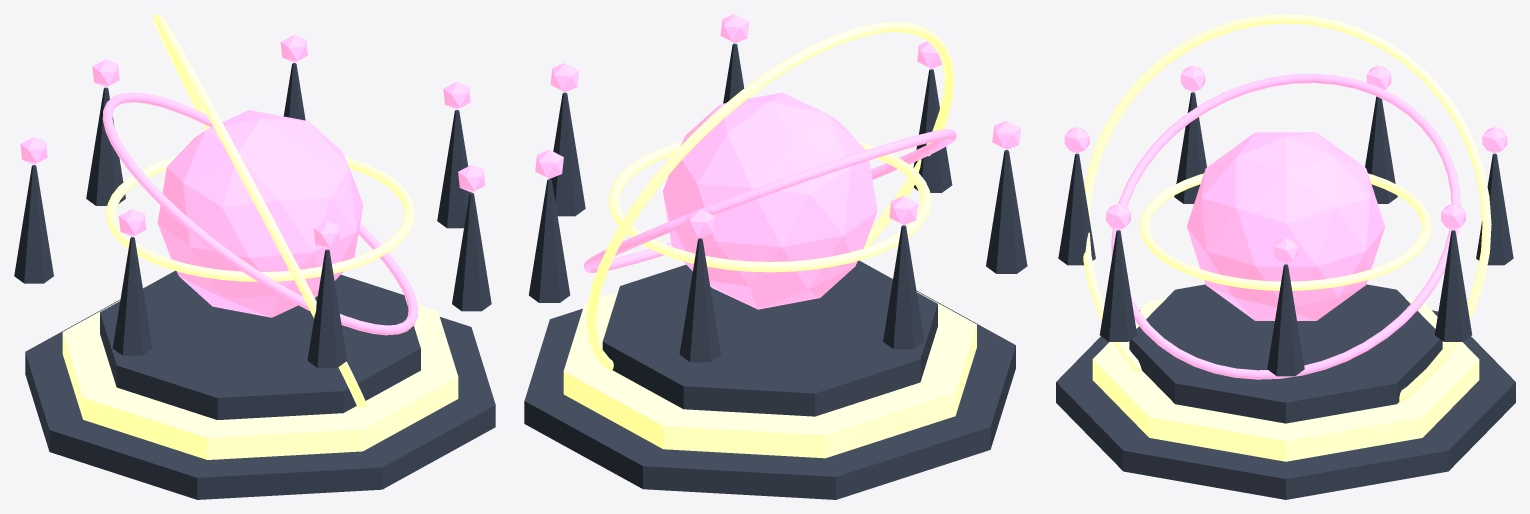
File: gpu-blender-v23.glb
3 renders of one model, left to right at view 1: azimuth 30°, elevation 25°; view 2: azimuth 150°, elevation 25°; view 3: azimuth 270°, elevation 25°, orthographic. The views are drawn at different scales.
Visible parts, largest first — view 1: Cylinder.002, SovereignCore_vision-gesture-control, Cylinder, Cylinder.001, Torus.001, Torus, Torus.002, Cone.006, Cone.003, Cone.004, Cone.005, Cone (+9 smaller); view 2: Cylinder.002, SovereignCore_vision-gesture-control, Cylinder, Cylinder.001, Torus.002, Torus.001, Torus, Cone.003, Cone.002, Cone.004, Cone.001, Cone (+8 smaller); view 3: SovereignCore_vision-gesture-control, Cylinder.002, Cylinder, Cylinder.001, Torus.002, Torus.001, Torus, Cone, Cone.001, Cone.006, Cone.005, Cone.002 (+8 smaller).
Boxes of the visible parts, x1,y1,x2,y2 form: Cylinder.002: (100, 271, 420, 419); SovereignCore_vision-gesture-control: (157, 110, 363, 317); Cylinder: (25, 299, 495, 499); Cylinder.001: (62, 279, 458, 459); Torus.001: (102, 92, 418, 335); Torus: (106, 156, 414, 281); Torus.002: (153, 14, 366, 407); Cone.006: (452, 193, 491, 311); Cone.003: (14, 165, 53, 283); Cone.004: (112, 237, 152, 355); Cone.005: (307, 249, 347, 367); Cone: (437, 110, 471, 228); Cylinder.002: (602, 260, 937, 416); SovereignCore_vision-gesture-control: (663, 92, 877, 309); Cylinder: (524, 290, 1015, 499); Cylinder.001: (563, 269, 976, 458); Torus.002: (586, 21, 954, 371); Torus.001: (584, 129, 956, 272); Torus: (609, 141, 931, 272); Cone.003: (883, 225, 924, 349); Cone.002: (679, 238, 720, 362); Cone.004: (986, 150, 1027, 273); Cone.001: (529, 179, 570, 302); Cone: (549, 92, 585, 216); SovereignCore_vision-gesture-control: (1186, 132, 1385, 320); Cylinder.002: (1129, 284, 1442, 423); Cylinder: (1056, 310, 1515, 499); Cylinder.001: (1092, 298, 1479, 461); Torus.002: (1083, 14, 1491, 403); Torus.001: (1111, 73, 1460, 379); Torus: (1140, 173, 1431, 290); Cone: (1267, 264, 1304, 376); Cone.001: (1434, 230, 1472, 341); Cone.006: (1099, 230, 1137, 341); Cone.005: (1058, 153, 1095, 265); Cone.002: (1476, 153, 1513, 265).
Bounding box in the file's own units: 4.41 × 3.72 × 4.4.
